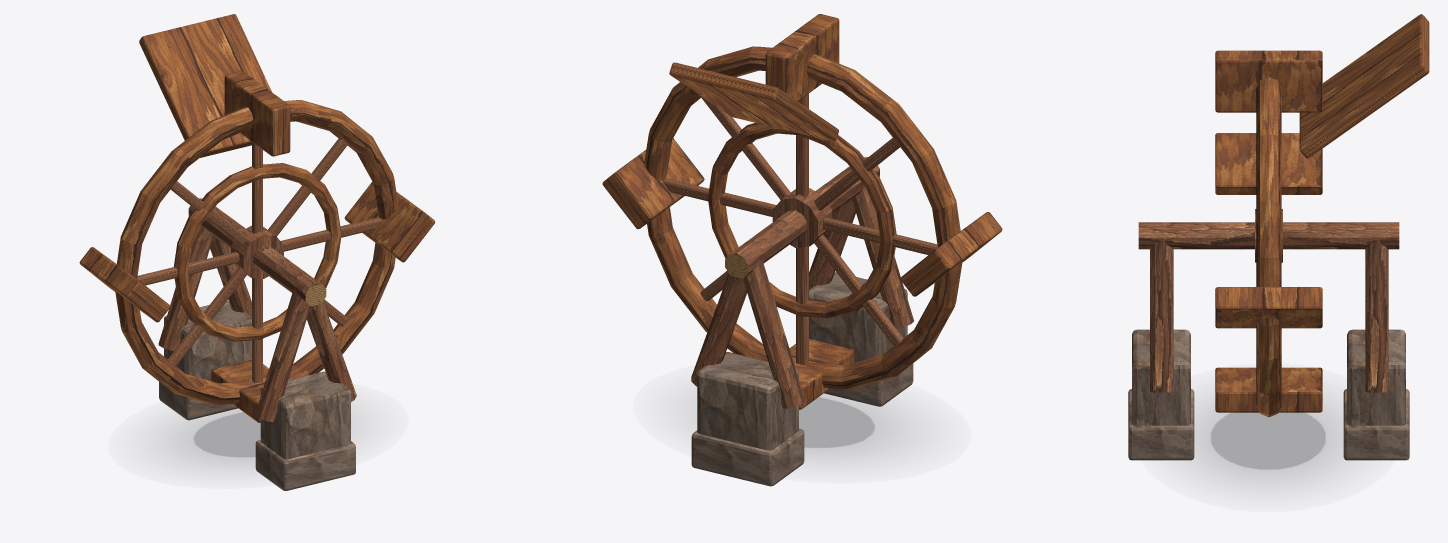
Rendered from waterwheel.glb.
3 renders of one model, left to right at view 1: azimuth 30°, elevation 25°; view 2: azimuth 150°, elevation 25°; view 3: azimuth 270°, elevation 25°, orthographic. The views are drawn at different scales.
Visible parts, largest first — view 1: rim, sluice, rimIn, pier, ContactShadow, paddle, pierWet, pier.001, framePost, axle, paddle.005, spoke.001 (+11 smaller); view 2: rim, rimIn, pier.001, sluice, ContactShadow, pierWet.001, pier, paddle, paddle.005, framePost.001, axle, spoke.001 (+13 smaller); view 3: sluice, rim, ContactShadow, axle, paddle.004, pier.001, pier, paddle.003, paddle.002, framePostB, framePostB.001, paddle.005 (+6 smaller).
Part boxes in pixels (bbox=[...]): rim: bbox=[115, 100, 398, 404]; sluice: bbox=[139, 14, 271, 157]; rimIn: bbox=[174, 163, 341, 341]; pier: bbox=[260, 371, 350, 459]; ContactShadow: bbox=[178, 408, 260, 462]; paddle: bbox=[224, 72, 290, 156]; pierWet: bbox=[255, 440, 355, 490]; pier.001: bbox=[164, 300, 251, 380]; framePost: bbox=[255, 283, 309, 421]; axle: bbox=[188, 198, 326, 306]; paddle.005: bbox=[344, 181, 434, 262]; spoke.001: bbox=[167, 138, 348, 367]; rim: bbox=[644, 46, 962, 389]; rimIn: bbox=[707, 122, 896, 318]; pier.001: bbox=[697, 352, 798, 450]; sluice: bbox=[669, 62, 838, 141]; ContactShadow: bbox=[799, 392, 892, 454]; pierWet.001: bbox=[691, 429, 804, 486]; pier: bbox=[809, 272, 907, 362]; paddle: bbox=[766, 14, 839, 101]; paddle.005: bbox=[602, 138, 704, 226]; framePost.001: bbox=[743, 254, 805, 408]; axle: bbox=[725, 157, 879, 278]; spoke.001: bbox=[700, 96, 903, 346]; sluice: bbox=[1299, 14, 1429, 158]; rim: bbox=[1256, 77, 1281, 417]; ContactShadow: bbox=[1197, 411, 1339, 477]; axle: bbox=[1138, 222, 1399, 249]; paddle.004: bbox=[1215, 51, 1322, 112]; pier.001: bbox=[1347, 329, 1405, 425]; pier: bbox=[1132, 329, 1190, 425]; paddle.003: bbox=[1215, 133, 1322, 191]; paddle.002: bbox=[1215, 367, 1322, 412]; framePostB: bbox=[1150, 234, 1173, 392]; framePostB.001: bbox=[1365, 234, 1388, 392]; paddle.005: bbox=[1215, 287, 1322, 328].
Size of the model in its own units: 2.5 by 2.56 by 1.9.
Materials: 9 (9 with a texture image).
